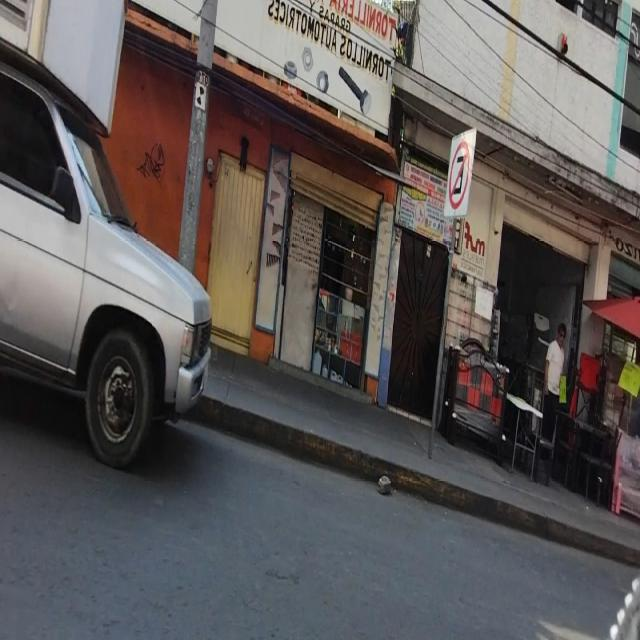adult: (542, 323, 568, 441)
